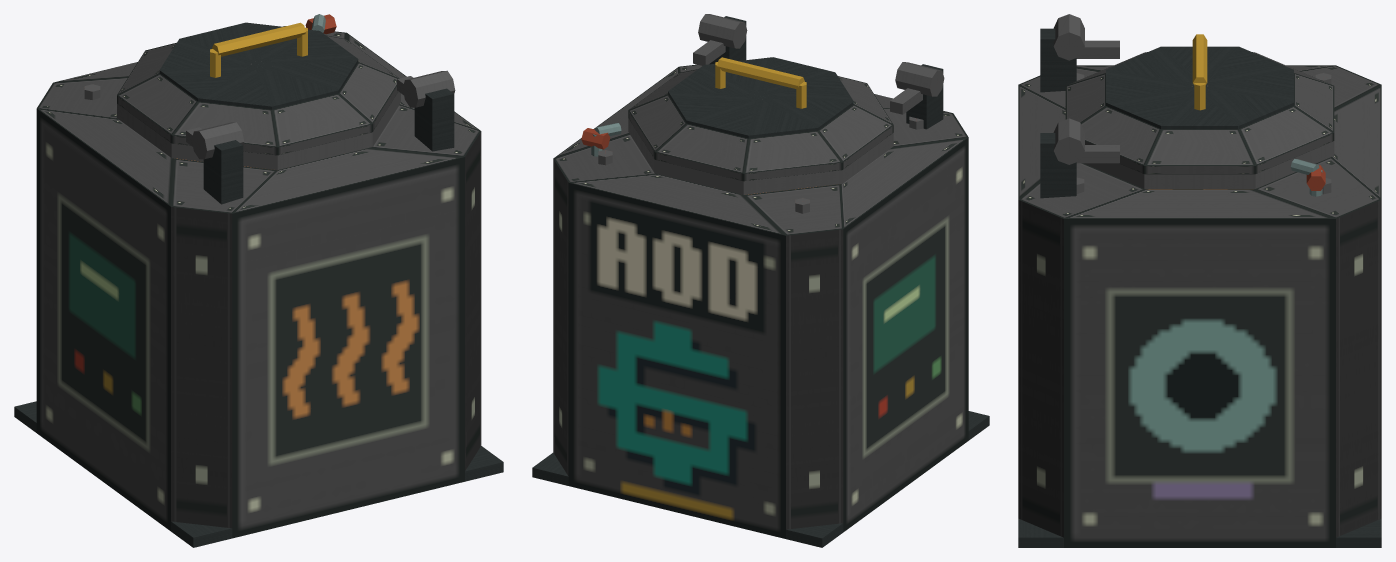
File: small_aod_tungsten.obj
The picture shows the model from 3 angles, left to right: view 1: azimuth 30°, elevation 25°; view 2: azimuth 150°, elevation 25°; view 3: azimuth 270°, elevation 25°; orthographic projection. The views are drawn at different scales.
Parts seen in each view (by area): view 1: contact_south, contact_west, lid, cut_corners, shoulder, hinge, sole_edge; view 2: contact_north, contact_west, lid, cut_corners, shoulder, hinge, sole_edge, gas_trim; view 3: contact_east, lid, cut_corners, shoulder, hinge, sole_edge, gas_trim.
Boxes of the visible parts, box(x1,y1,x2,y2) form: contact_south: box(232, 157, 464, 538); contact_west: box(36, 109, 170, 531); lid: box(117, 22, 413, 169); cut_corners: box(171, 131, 481, 528); shoulder: box(37, 26, 480, 213); hinge: box(191, 70, 455, 204); sole_edge: box(14, 401, 503, 547); contact_north: box(568, 183, 785, 538); contact_west: box(843, 137, 968, 532); lid: box(628, 40, 922, 194); cut_corners: box(553, 159, 843, 529); shoulder: box(553, 64, 968, 235); hinge: box(698, 14, 944, 129); sole_edge: box(532, 411, 989, 547); gas_trim: box(581, 123, 621, 156); contact_east: box(1064, 219, 1335, 547); lid: box(1065, 34, 1334, 188); cut_corners: box(1018, 200, 1381, 537); shoulder: box(1018, 65, 1381, 218); hinge: box(1040, 14, 1084, 198); sole_edge: box(1018, 518, 1381, 547); gas_trim: box(1291, 159, 1325, 196).
Size of the model in its own units: 1 by 1.26 by 1.
14 materials, 14 textured.
